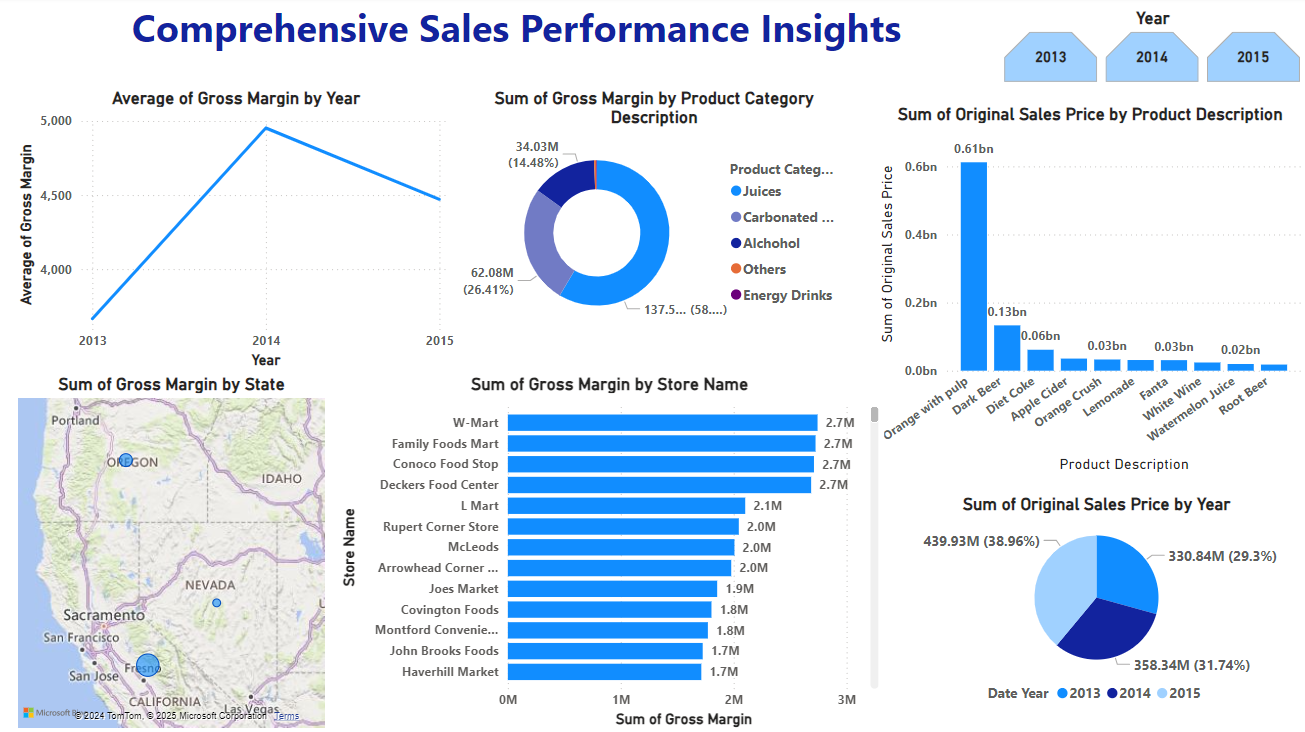

The page's visual inventory and layout, read from the dashboard file:
{"tool":"powerbi","page":{"name":"Dashboard 1","canvas":[1280,720],"ordinal":0},"visuals":[{"type":"lineChart","fields":{"Category":["Sheet1.Date.Variation.Date Hierarchy.Year","Sheet1.Date.Variation.Date Hierarchy.Month"],"Y":["Avg(Sheet1.Gross Margin)"]},"box":[15.1,89.2,436.4,279.9],"z":0},{"type":"map","fields":{"Category":["Sheet1.State"],"Size":["Sum(Sheet1.Gross Margin)"]},"box":[15.1,369.1,310.1,351.3],"z":1000},{"type":"advancedSlicerVisual","fields":{"Values":["Sheet1.Date.Variation.Date Hierarchy.Year"]},"box":[979.8,11,300.5,78.2],"z":2000},{"type":"textbox","box":[116.6,0,782.2,67.2],"z":3000},{"type":"donutChart","fields":{"Category":["Sheet1.Product Category Description"],"Y":["Sum(Sheet1.Gross Margin)"]},"box":[451.5,89.2,381.5,247],"z":4000},{"type":"columnChart","fields":{"Category":["Sheet1.Product Description"],"Y":["Sum(Sheet1.Original Sales Price)"]},"box":[857.6,105.7,422.6,366.4],"z":5000},{"type":"barChart","fields":{"Category":["Sheet1.Store Name"],"Y":["Sum(Sheet1.Gross Margin)"]},"box":[330.7,369.1,536.5,351.3],"z":6000},{"type":"pieChart","fields":{"Category":["Sheet1.Date.Variation.Date Hierarchy.Year"],"Y":["Sum(Sheet1.Original Sales Price)"]},"box":[879.6,487.1,391.1,214.1],"z":7000}]}

Visuals, with their boxes in screenshot pixels (x1, y1, x2, y2), scaled from the page's 1280x720 canvas onto the 1305x732 screenshot:
lineChart - Sheet1.Date.Variation.Date Hierarchy.Year x Sheet1.Date.Variation.Date Hierarchy.Month: <box>15,91,460,375</box>
map - Sheet1.State x Sum(Sheet1.Gross Margin): <box>15,375,332,731</box>
advancedSlicerVisual - Sheet1.Date.Variation.Date Hierarchy.Year: <box>999,11,1304,91</box>
textbox: <box>119,0,916,68</box>
donutChart - Sheet1.Product Category Description x Sum(Sheet1.Gross Margin): <box>460,91,849,342</box>
columnChart - Sheet1.Product Description x Sum(Sheet1.Original Sales Price): <box>874,107,1304,480</box>
barChart - Sheet1.Store Name x Sum(Sheet1.Gross Margin): <box>337,375,884,731</box>
pieChart - Sheet1.Date.Variation.Date Hierarchy.Year x Sum(Sheet1.Original Sales Price): <box>897,495,1296,713</box>
